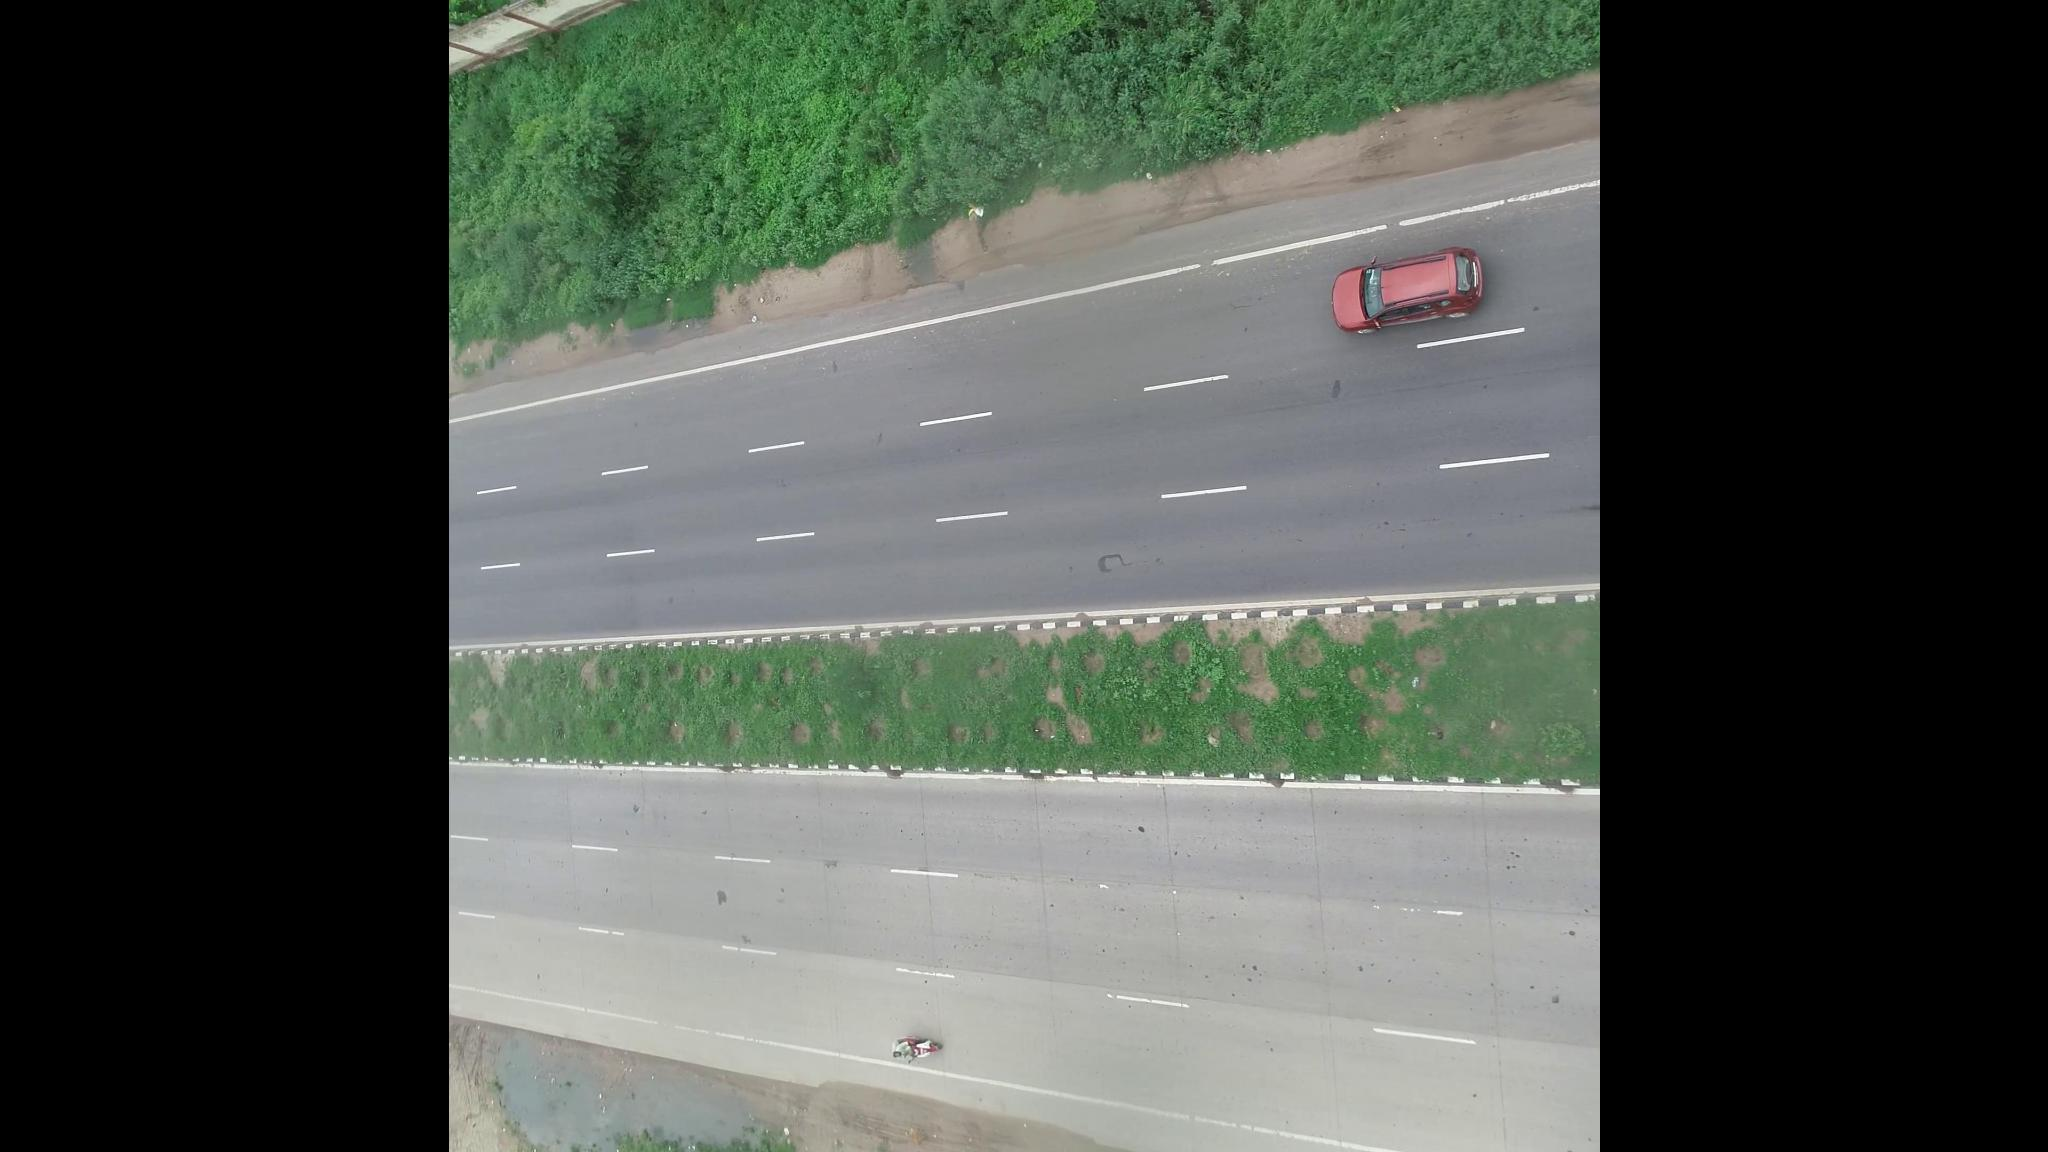Potholes: (1070, 513, 1152, 596)
